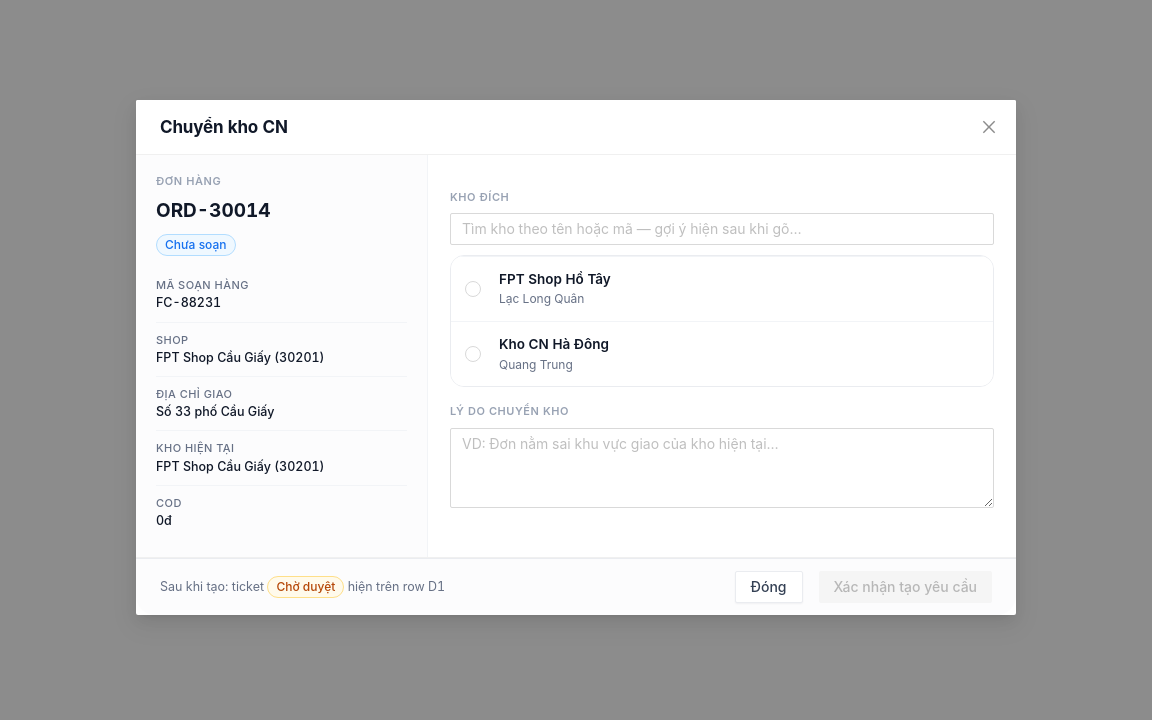
it: TransferHubModal — tạo ticket chuyển kho (SF-28 T2) › chọn kho + nhập lý do → confirm enable → payload đúng code/toHub/fromHub/reason
Click the option with test id "transfer-hub-target" showing "FPT Shop Hồ Tây Lạc Long Quân" at x=555, y=279, box [451,256,993,321]
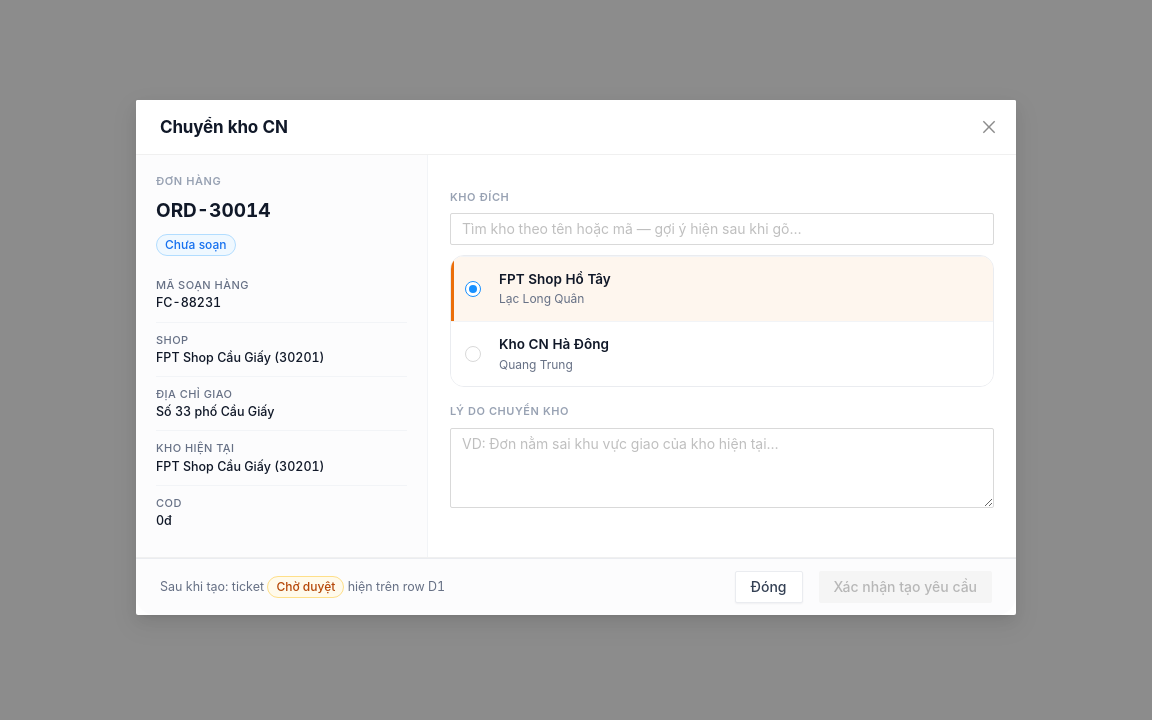
Type "Đơn nằm sai khu vực giao" into the text box with test id "transfer-hub-reason" at x=722, y=468, box [450,428,994,508]
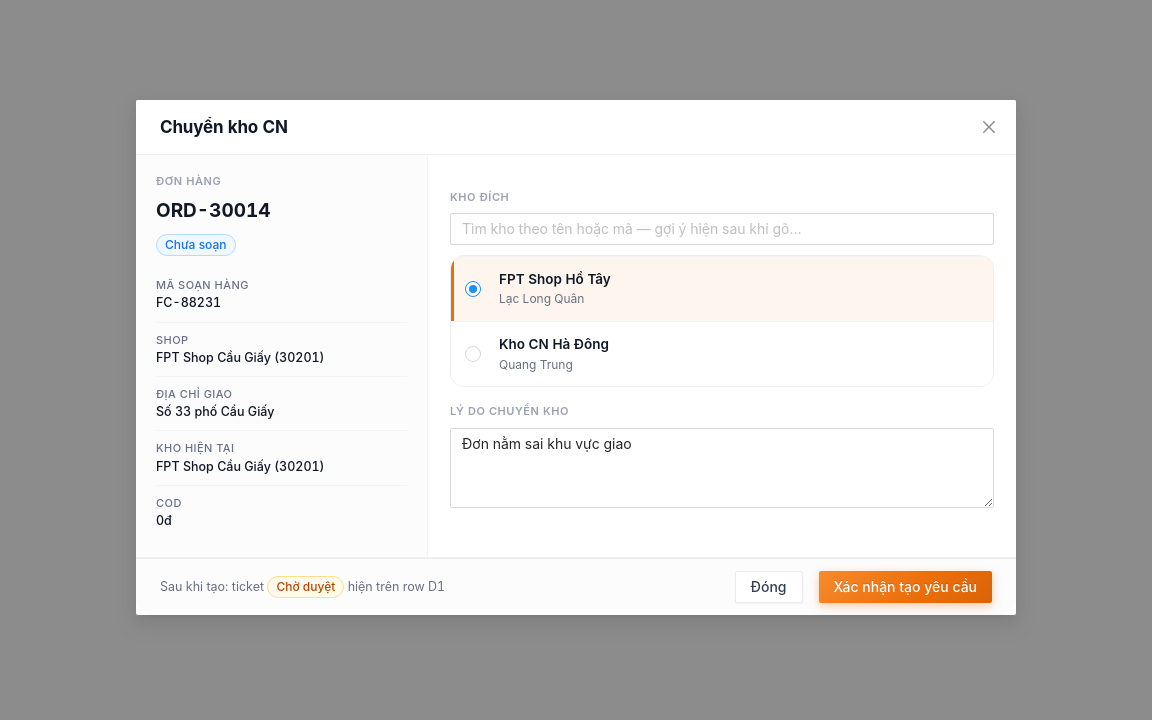
Check: the button with test id "transfer-hub-confirm" is enabled
Click the button with test id "transfer-hub-confirm" at x=905, y=587, box [818,571,992,603]
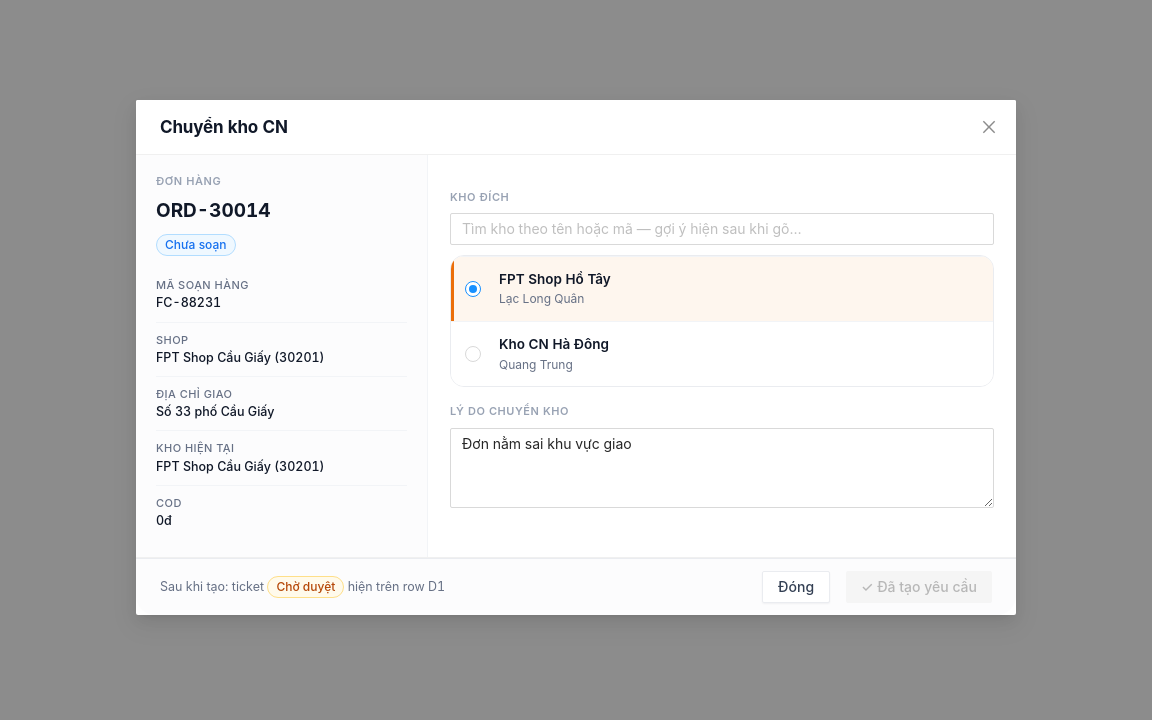
Check: the button with test id "transfer-hub-confirm" reads "✓ Đã tạo yêu cầu", box [846,571,992,603]
